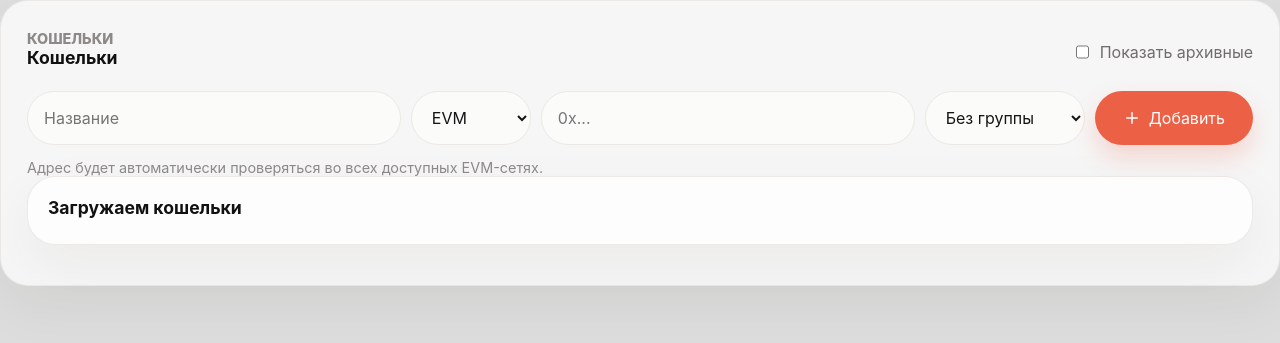
Test case: first wallet snapshot progress › shows an immediate starting state and then the owner-scoped auto job
Type "Primary" into the field with placeholder "Название" at (214, 118), box [27,91,401,145]
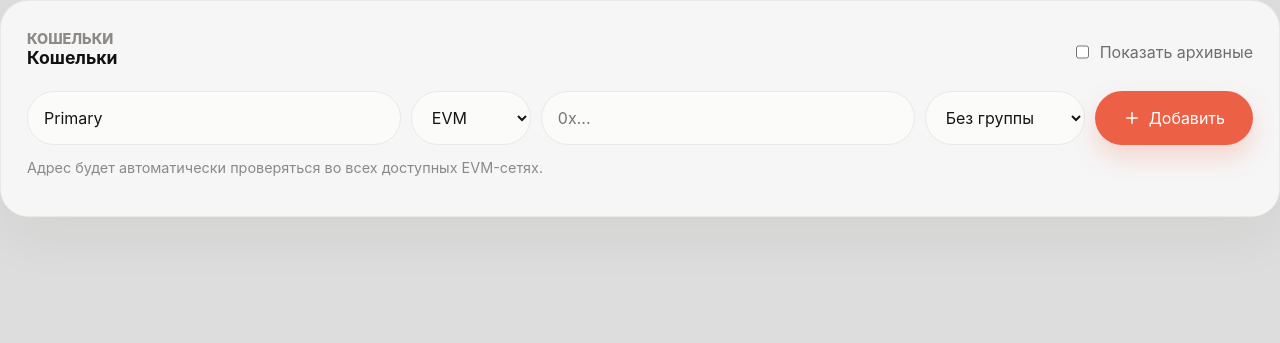
Type "0x0000000000000000000000000000000000000037" into the field with placeholder "0x..." at (728, 118), box [541,91,915,145]
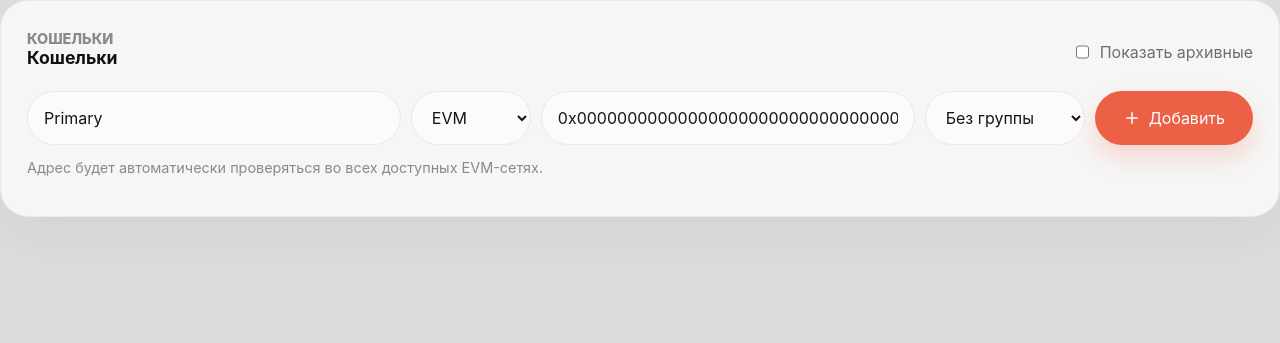
Click the button "Добавить" at (1174, 118), box [1095,91,1253,145]
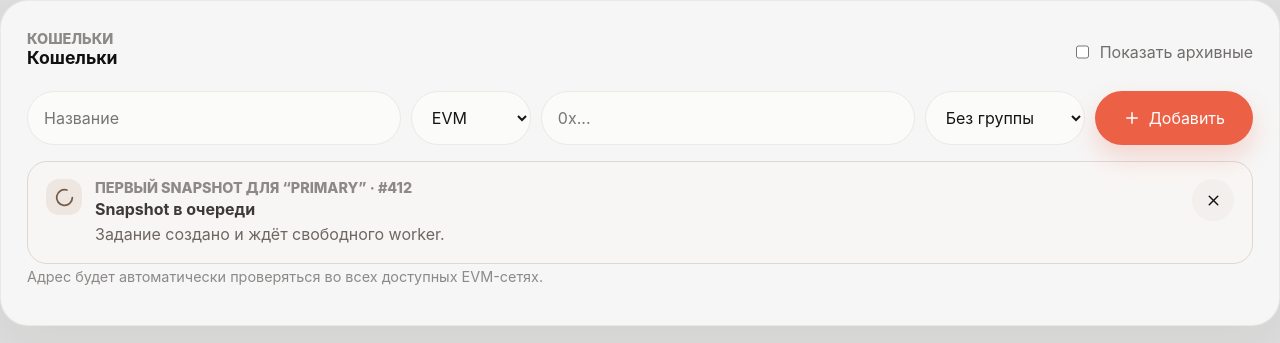
Expected: the text "Адрес будет автоматически проверяться во всех доступных EVM-сетях." is shown, [27,268,543,285]
Result: the text "Snapshot в очереди" is shown at [95,199,255,219]
Result: the message shows "#412" at [366,179,412,196]
